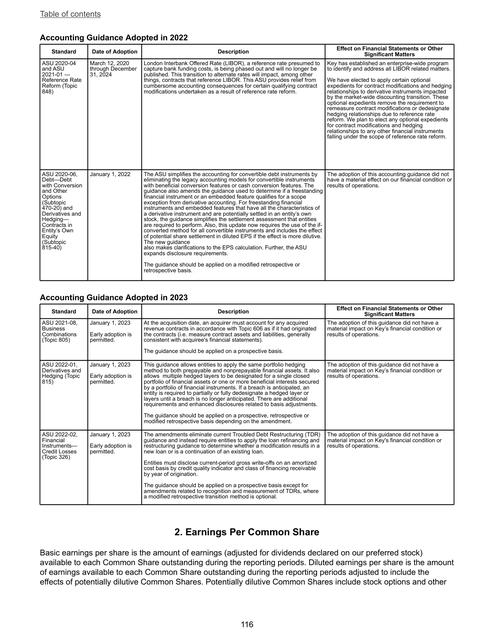box: (37, 34, 459, 284), (37, 293, 459, 508)
